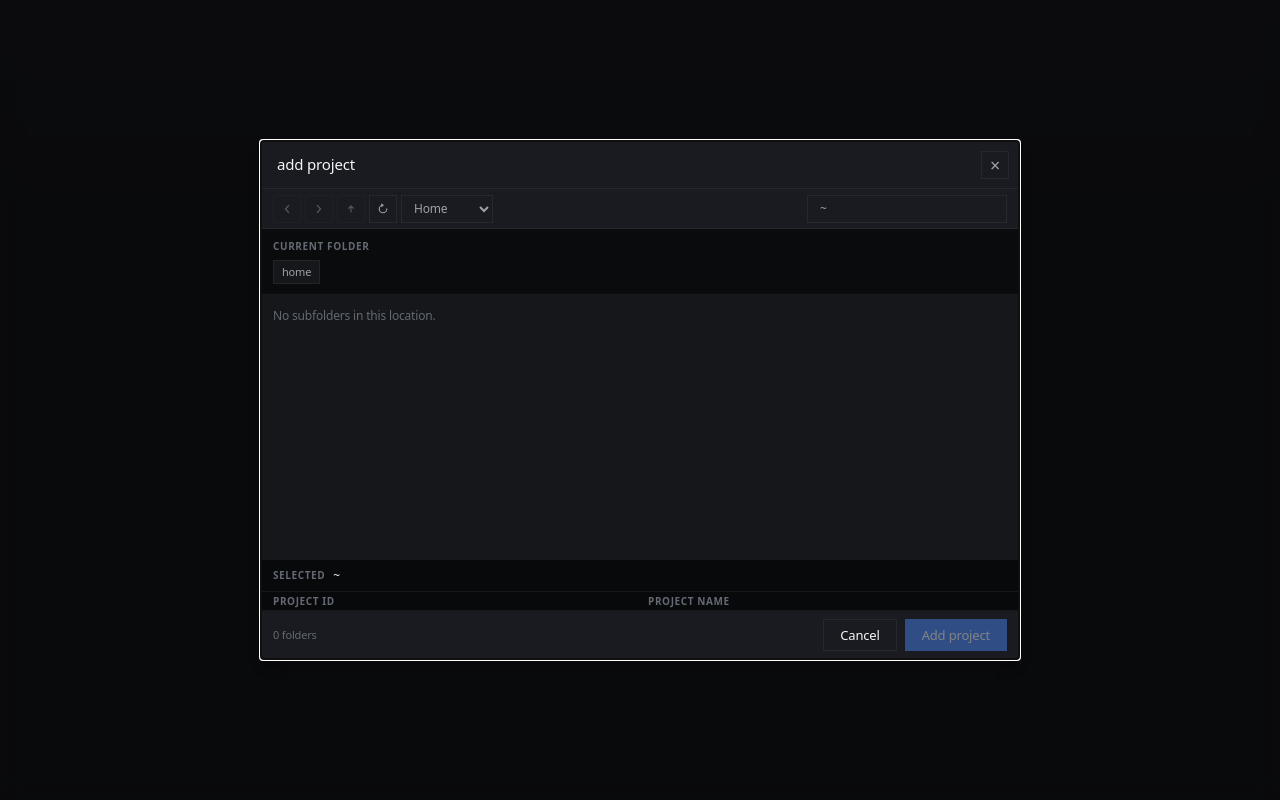
AddProjectModal › shows Windows drive roots when the browse API returns them
Select "D:" in the dropdown named "location" at coordinates (447, 208), box [401,194,493,222]
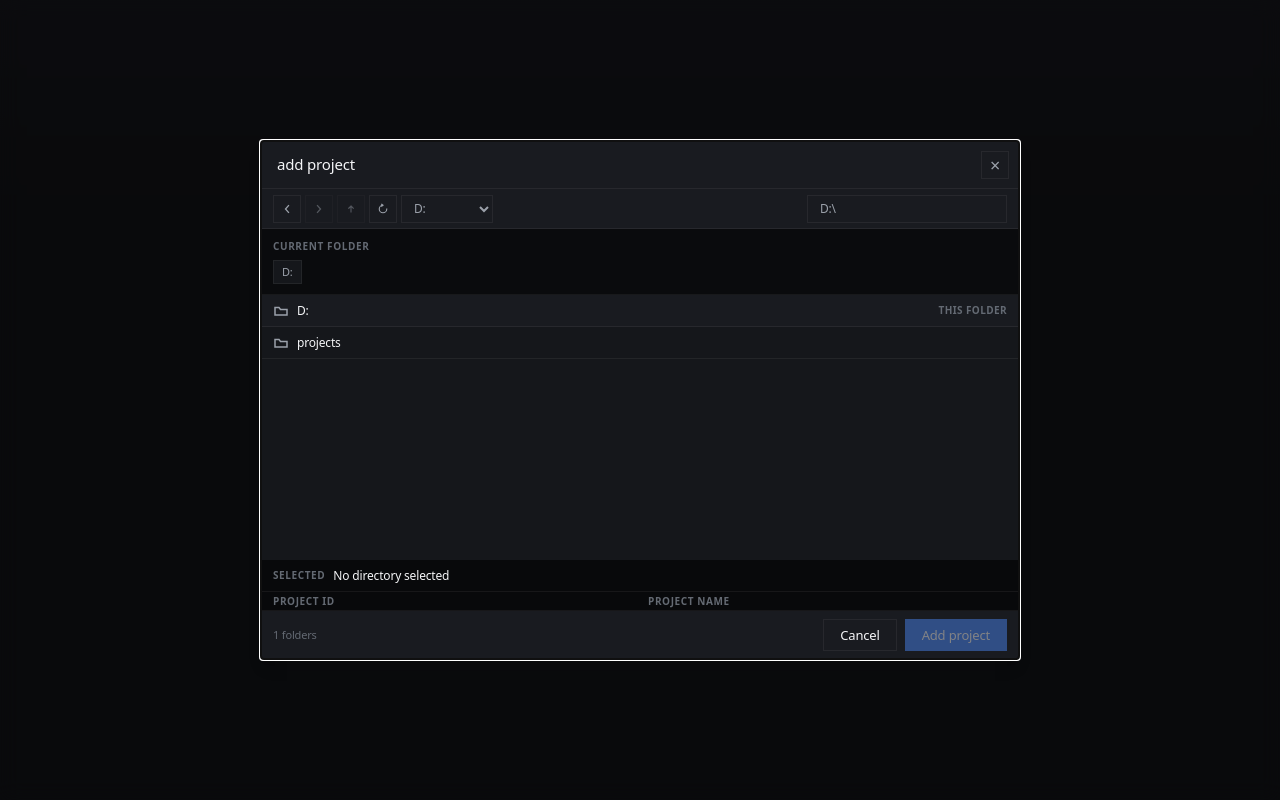
expect the field named "folder path" holds "D:\\": met, box [807,194,1007,222]
expect the button "projects" is shown: met, box [261,327,1019,359]
